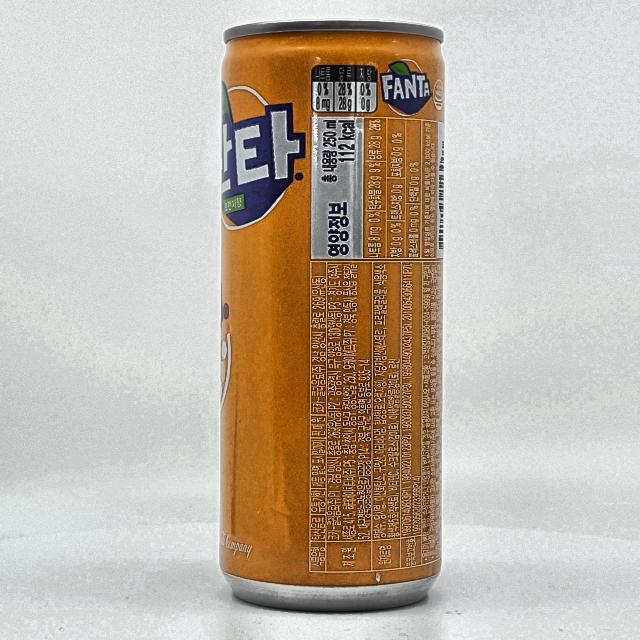fantaorange: (211, 15, 455, 621)
